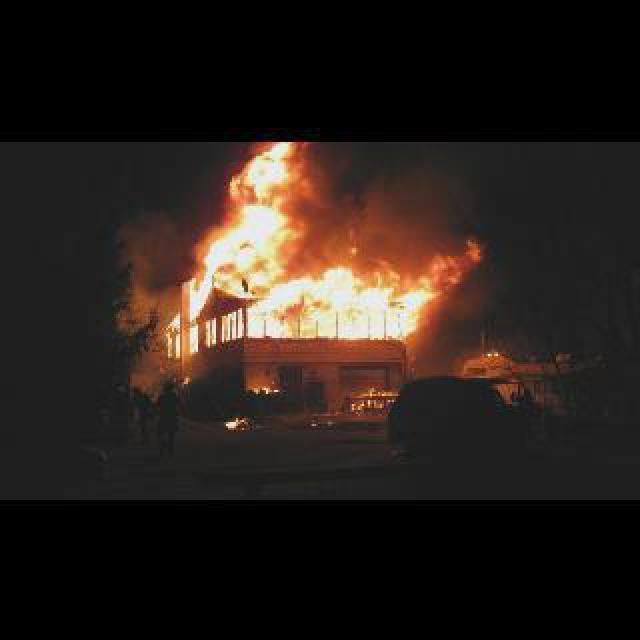Fire: (160, 142, 492, 358), (348, 384, 394, 412), (226, 412, 252, 428), (254, 384, 286, 394), (182, 368, 194, 384), (486, 350, 500, 354)
